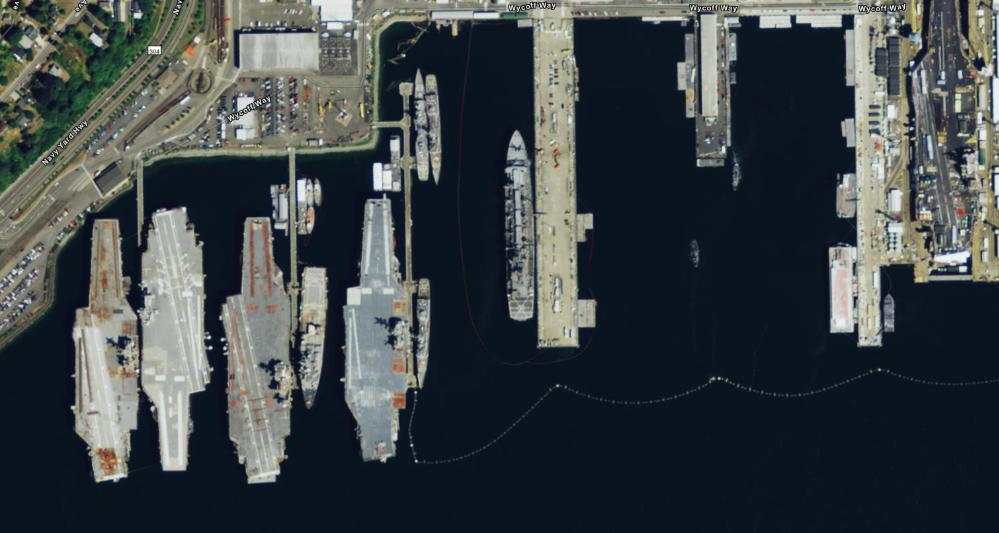carrier: (218, 205, 300, 496), (339, 190, 414, 466), (68, 206, 138, 489), (141, 200, 208, 478)
cruiser: (414, 273, 439, 392), (426, 68, 444, 185), (412, 69, 429, 184)
tender: (498, 129, 542, 322)
